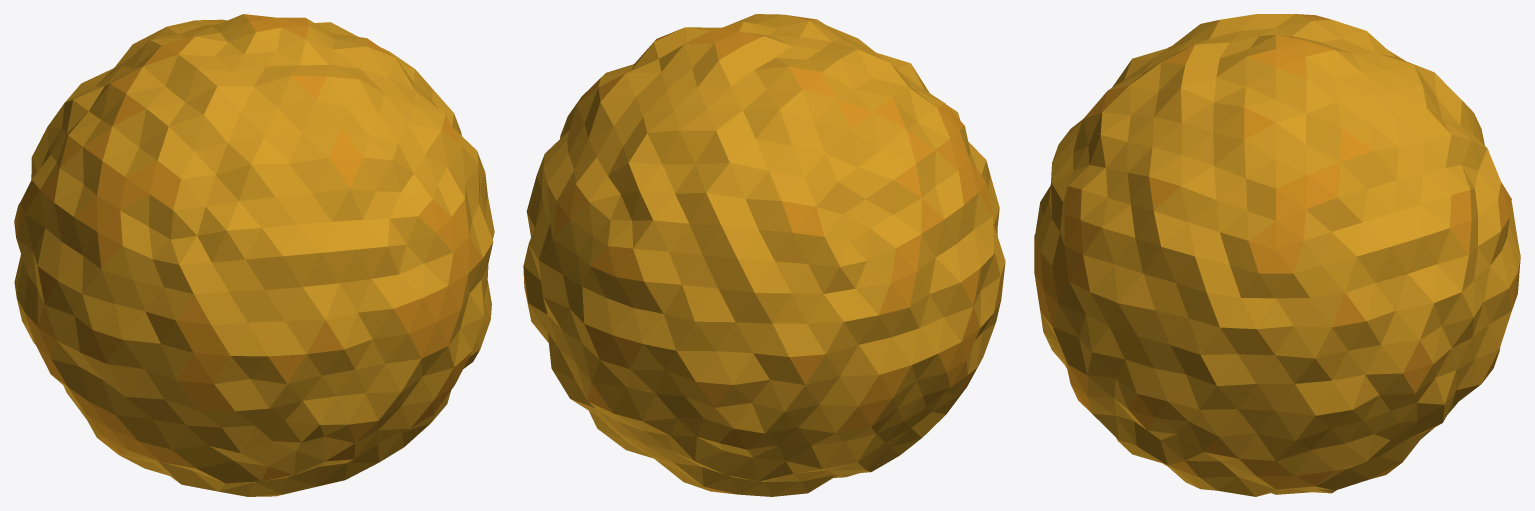
File: SunLowPoly.fbx
The picture shows the model from 3 angles, left to right: view 1: azimuth 30°, elevation 25°; view 2: azimuth 150°, elevation 25°; view 3: azimuth 270°, elevation 25°; orthographic projection.
Parts seen in each view (by area): view 1: Icosphere; view 2: Icosphere; view 3: Icosphere.
Part boxes in pixels (x1=…): Icosphere: x1=14, y1=14, x2=494, y2=496; Icosphere: x1=523, y1=14, x2=1005, y2=496; Icosphere: x1=1034, y1=14, x2=1520, y2=496.
Bounding box in the file's own units: 1038 × 1041 × 1038.
